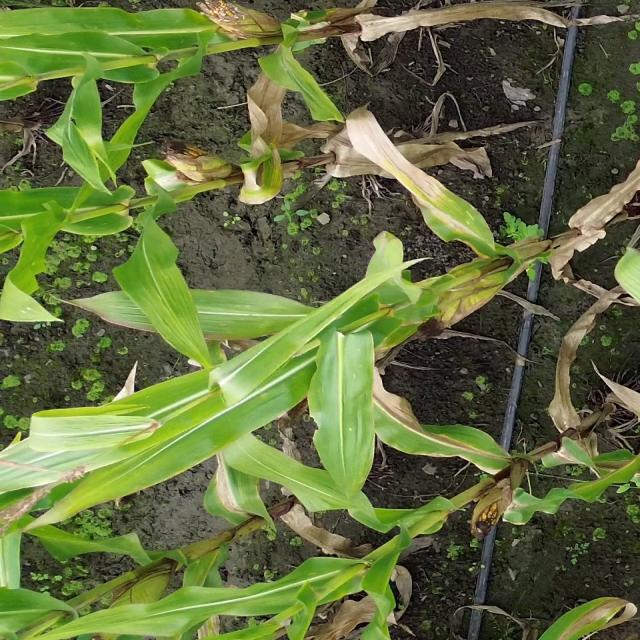northern-leaf-blight: (385, 396, 492, 463), (203, 460, 260, 517), (554, 440, 630, 482), (417, 193, 481, 239), (545, 599, 613, 640)
